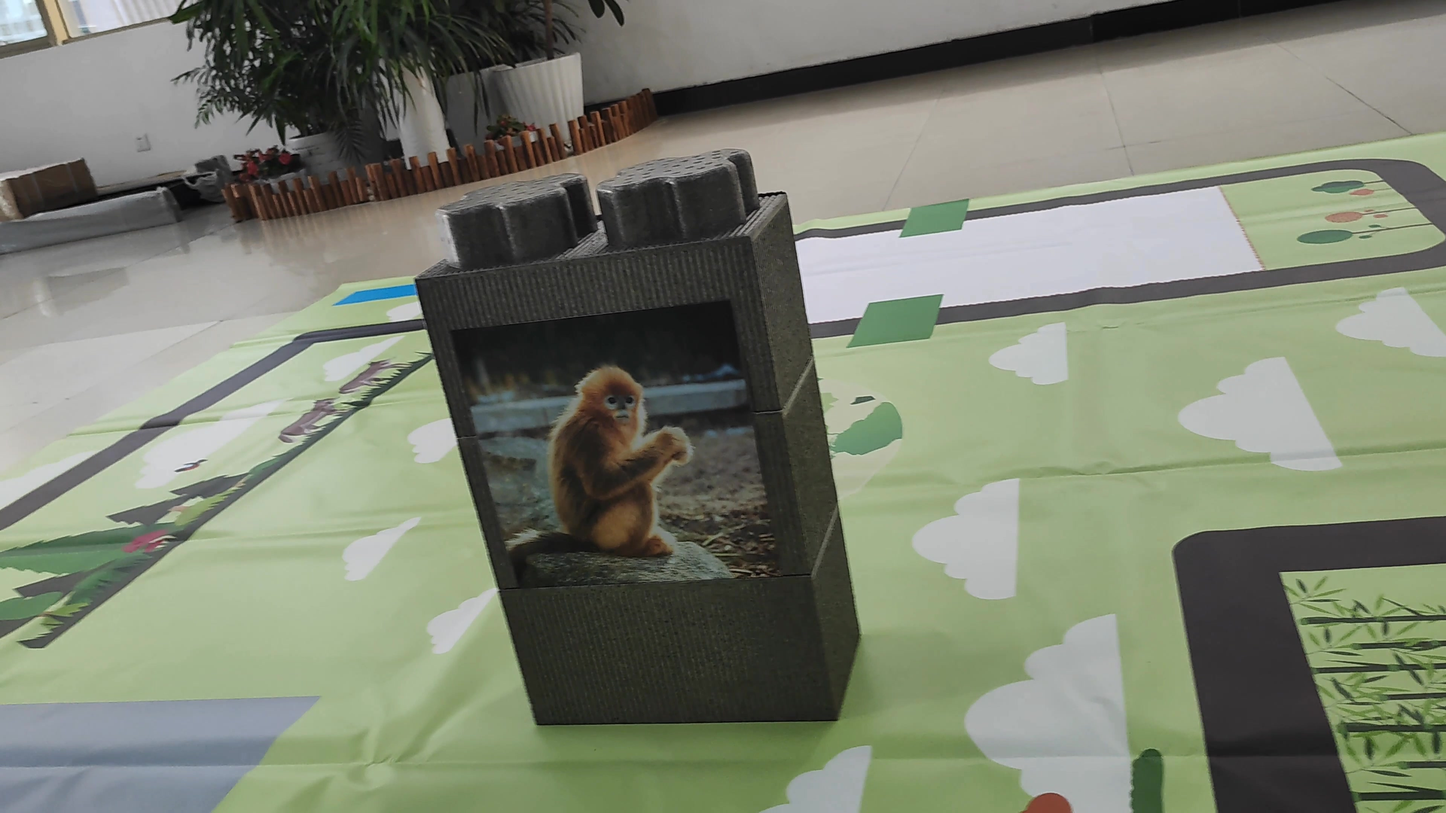monkey: (502, 355, 704, 585)
